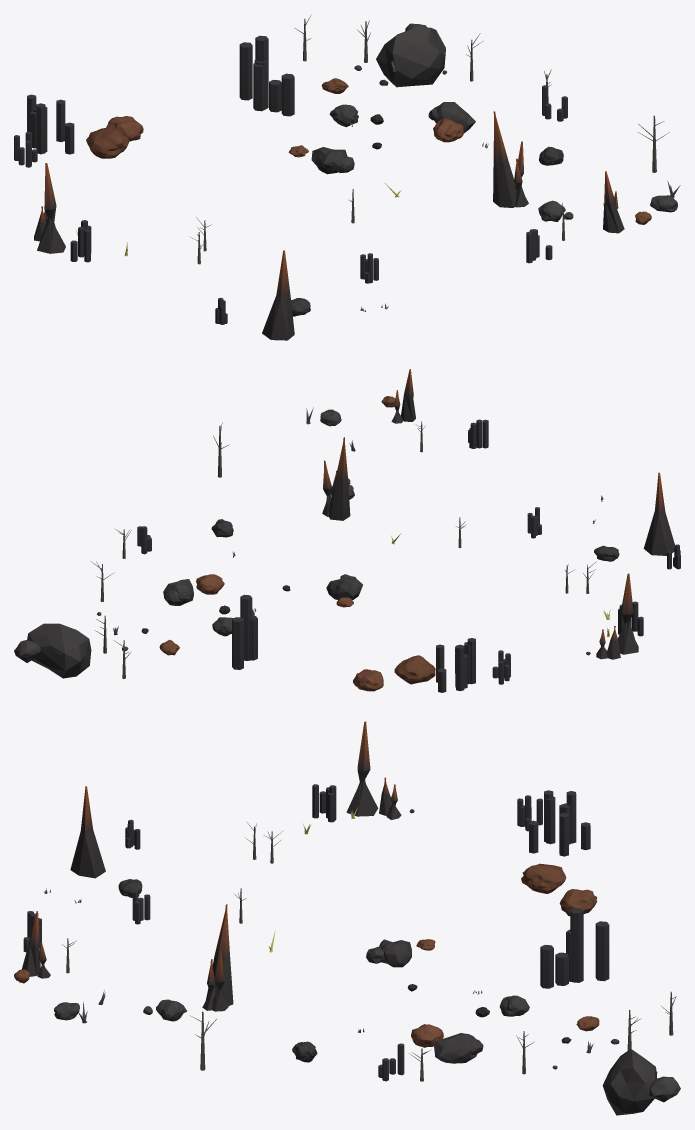
The model's file is ash_land_scatter_c20_27.glb.
3 renders of one model, top to bottom at view 1: azimuth 30°, elevation 25°; view 2: azimuth 150°, elevation 25°; view 3: azimuth 270°, elevation 25°, orthographic. The views are drawn at different scales.
Parts seen in each view (by area): view 1: ash_land_scatter_c20_27; view 2: ash_land_scatter_c20_27; view 3: ash_land_scatter_c20_27.
Boxes of the visible parts, left/top/right/bottom form: ash_land_scatter_c20_27: left=14, top=14, right=680, bottom=340; ash_land_scatter_c20_27: left=14, top=369, right=680, bottom=692; ash_land_scatter_c20_27: left=14, top=721, right=680, bottom=1115.
Bounding box in the file's own units: 93.57 × 23.76 × 95.29.
